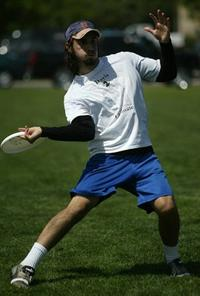person: (11, 9, 193, 292)
